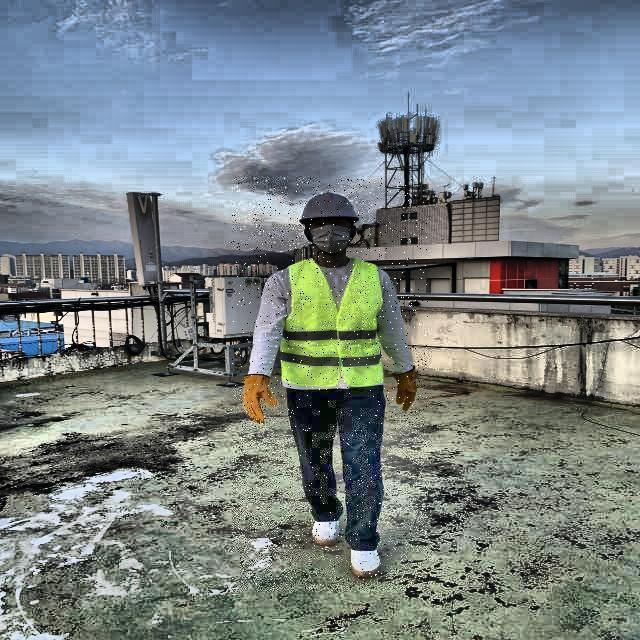safety_helmet: (298, 191, 359, 224)
safety_jacket: (280, 258, 384, 386)
